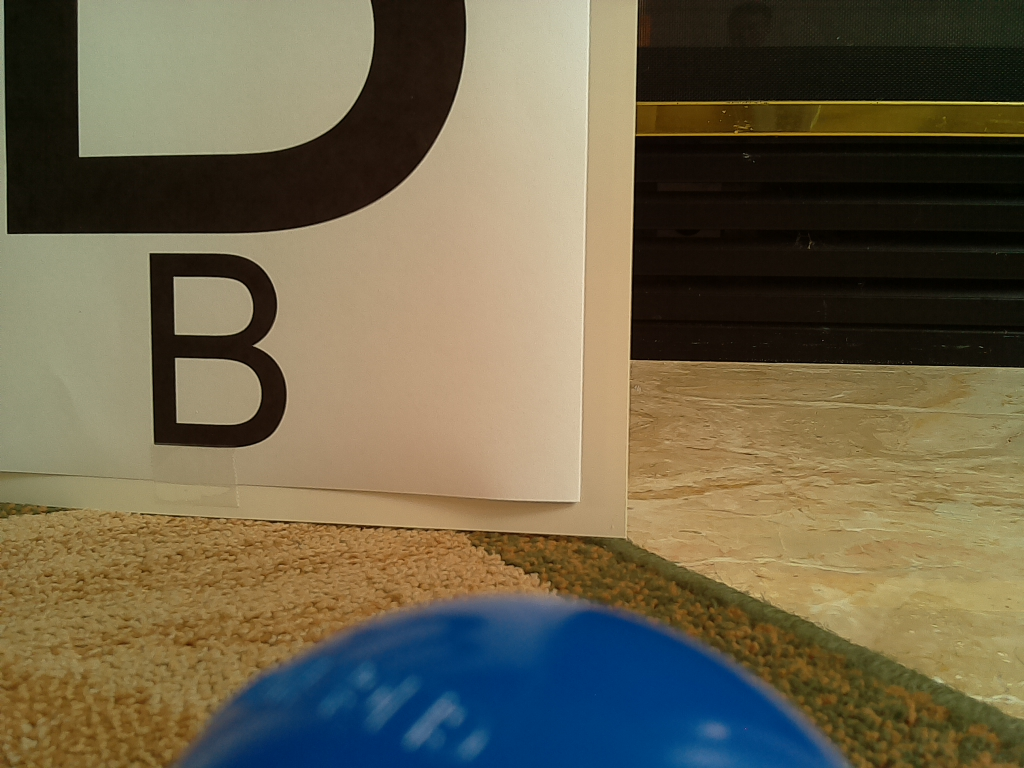letter: (149, 253, 290, 450)
